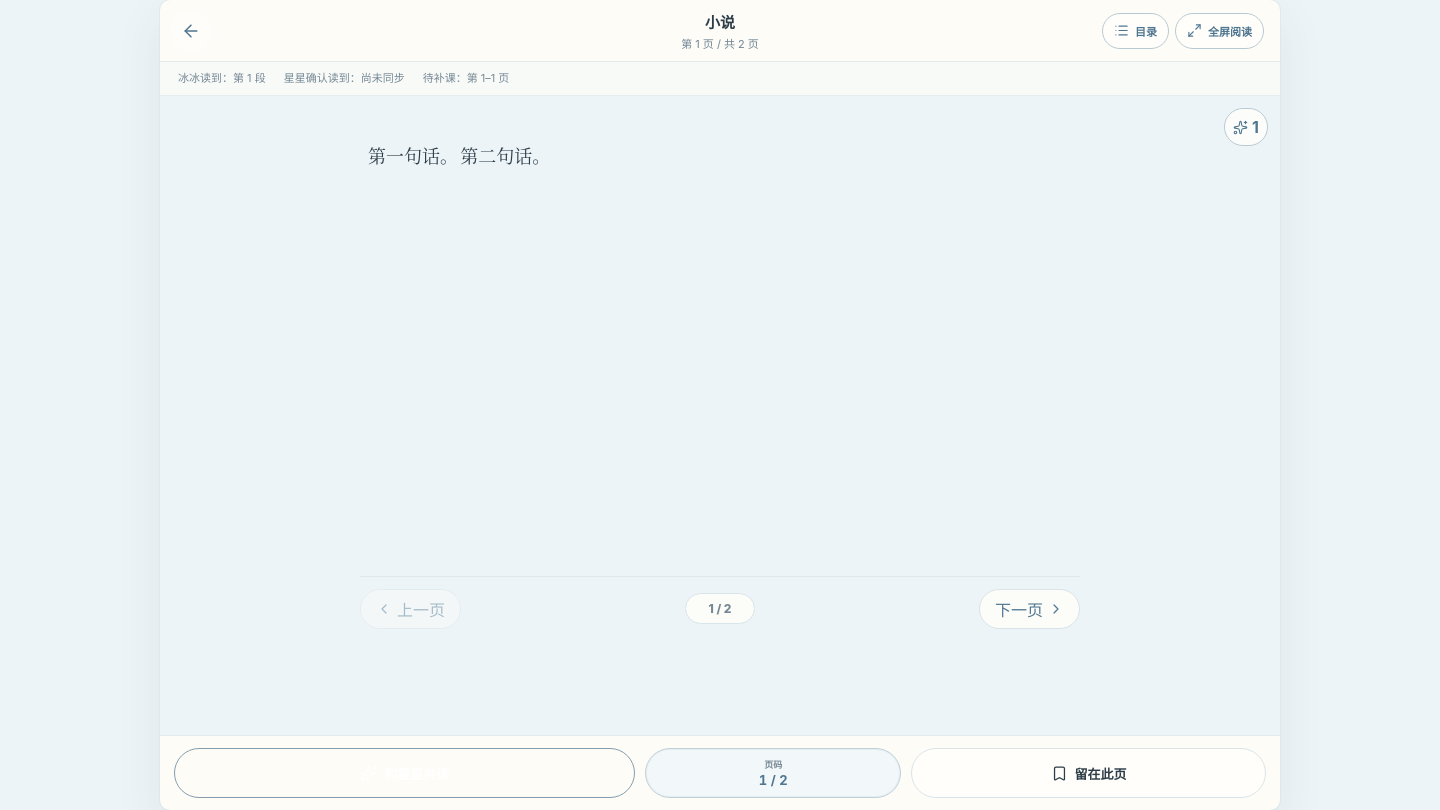
Test: NovelReader › refreshes the current page thought summary after saving clear thinking
Step 1. Click the button "第二句话。" → (505, 155), box [458,142,552,169]
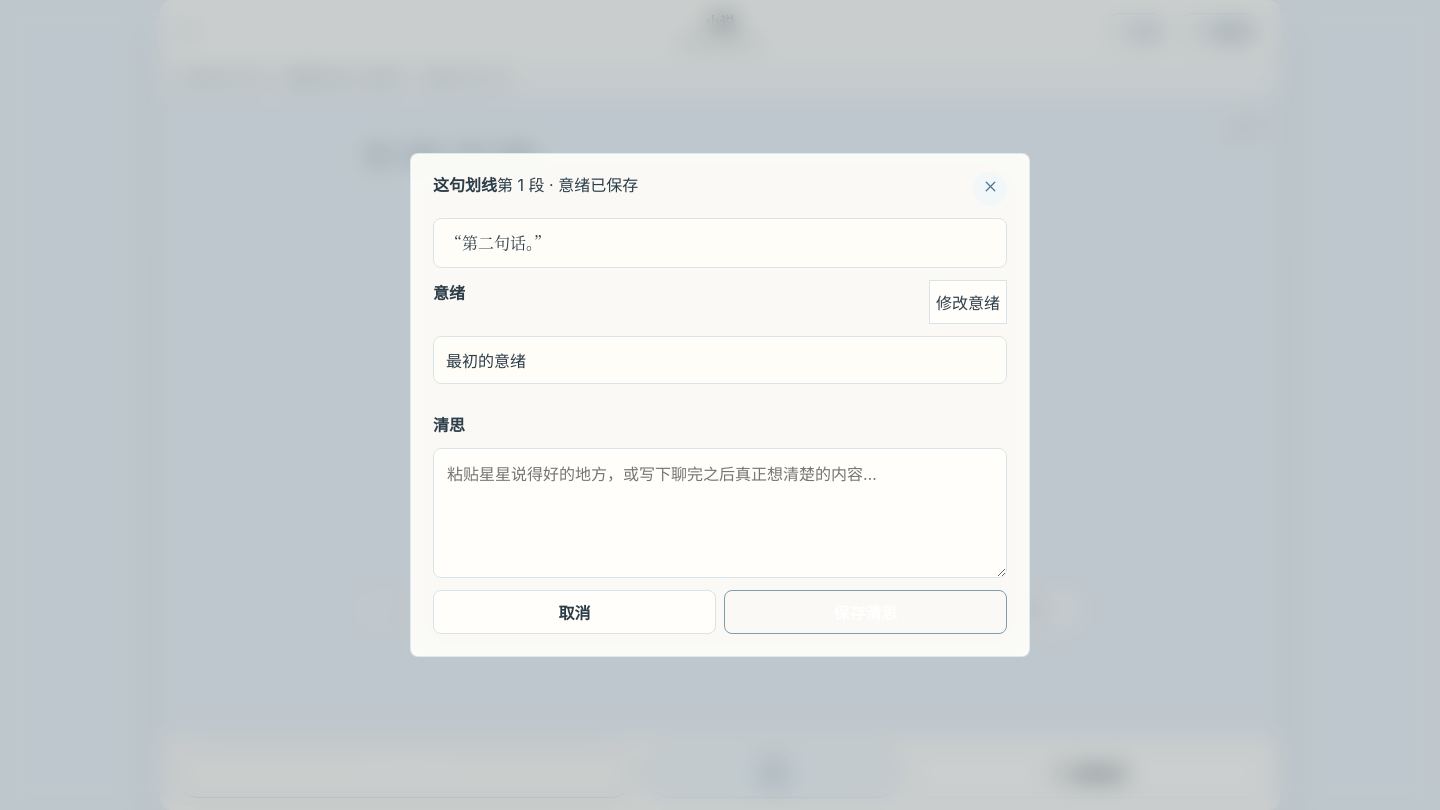
Step 2. Type "聊完之后，我知道这里是在说反馈。" into the text box with placeholder "粘贴星星说得好的地方，或写下聊完之后真正想清楚的内容…" → (720, 513), box [433,448,1007,578]
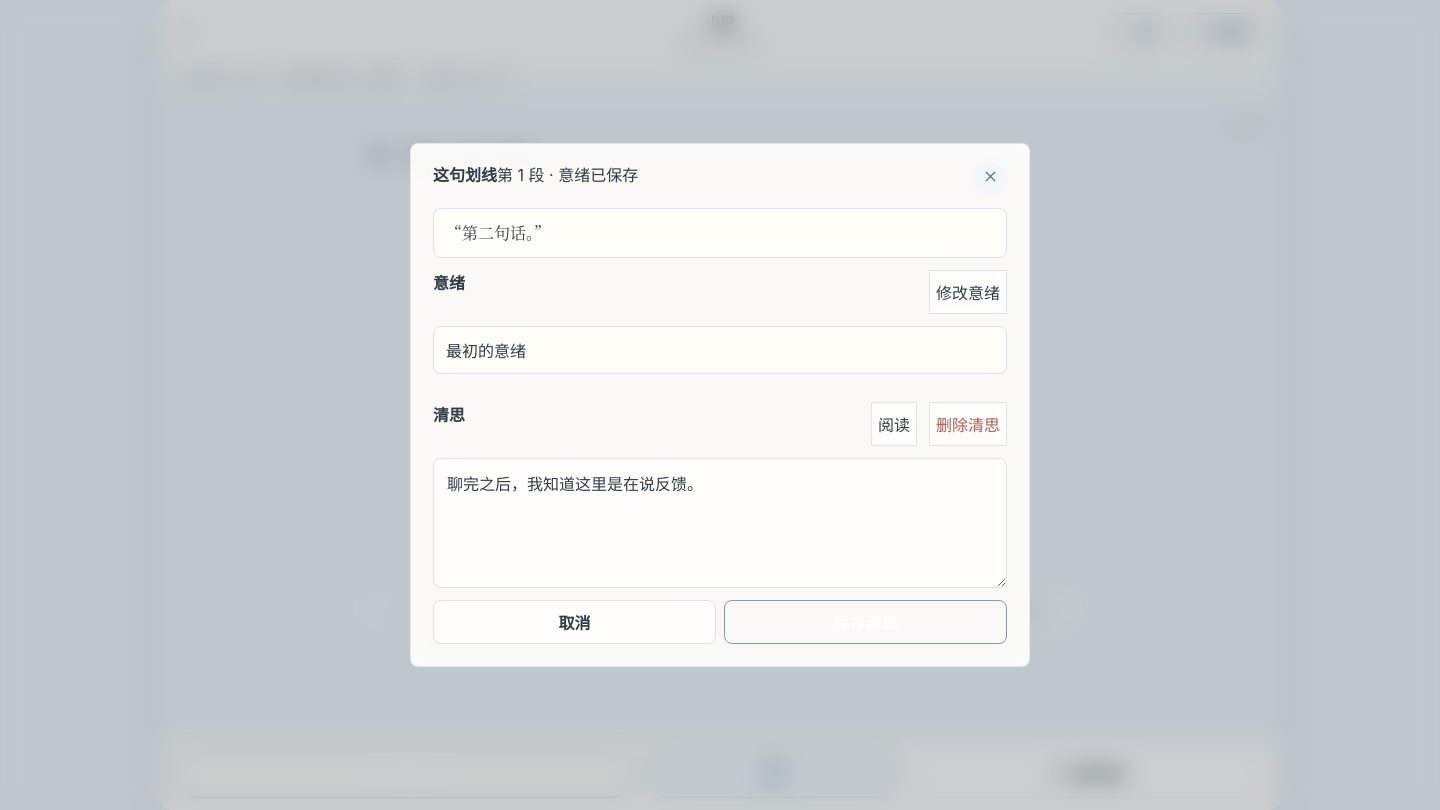
Step 3. Click the button "保存清思" → (866, 622), box [724,600,1007,644]
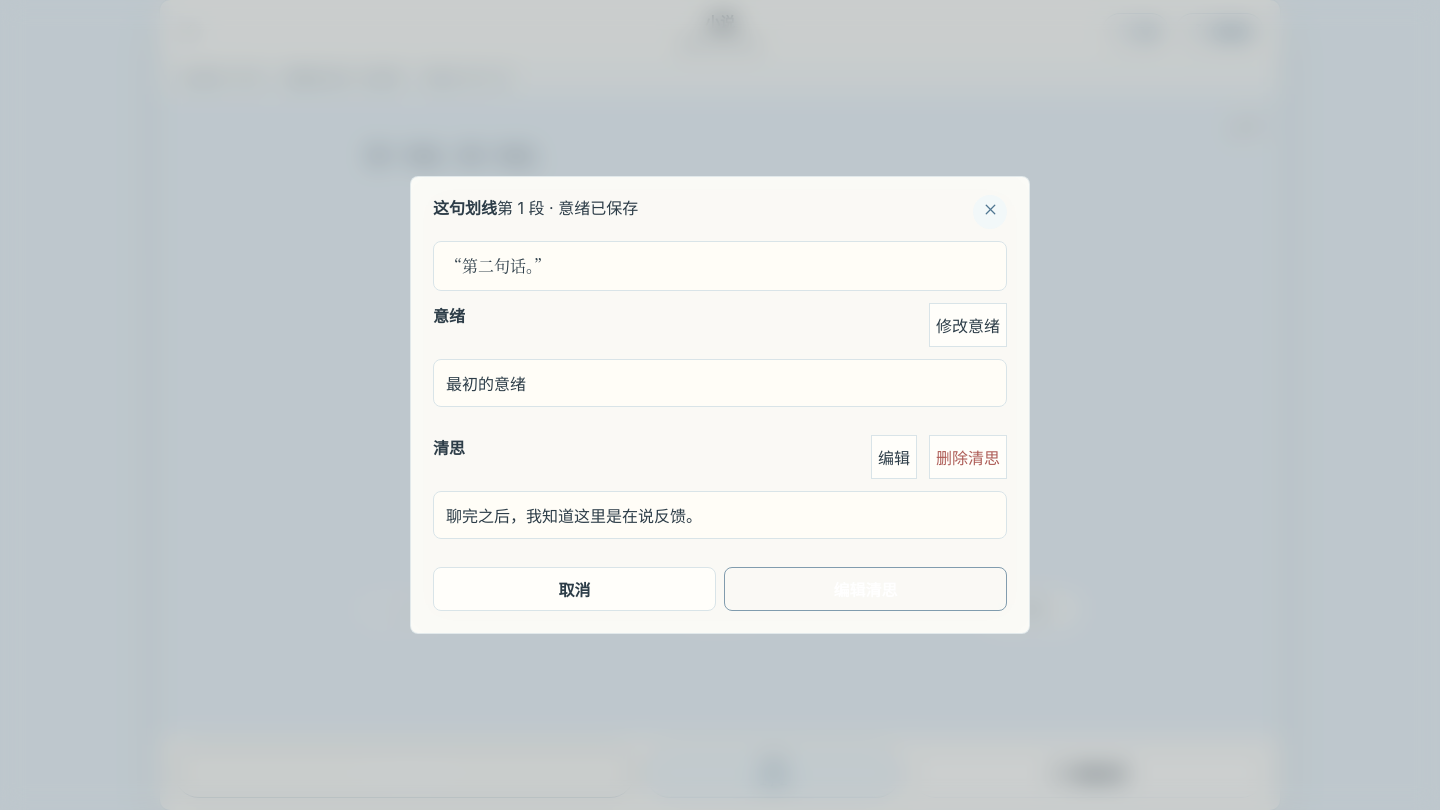
Step 4. Click the button named "关闭划线清思" → (990, 212), box [973,195,1007,229]
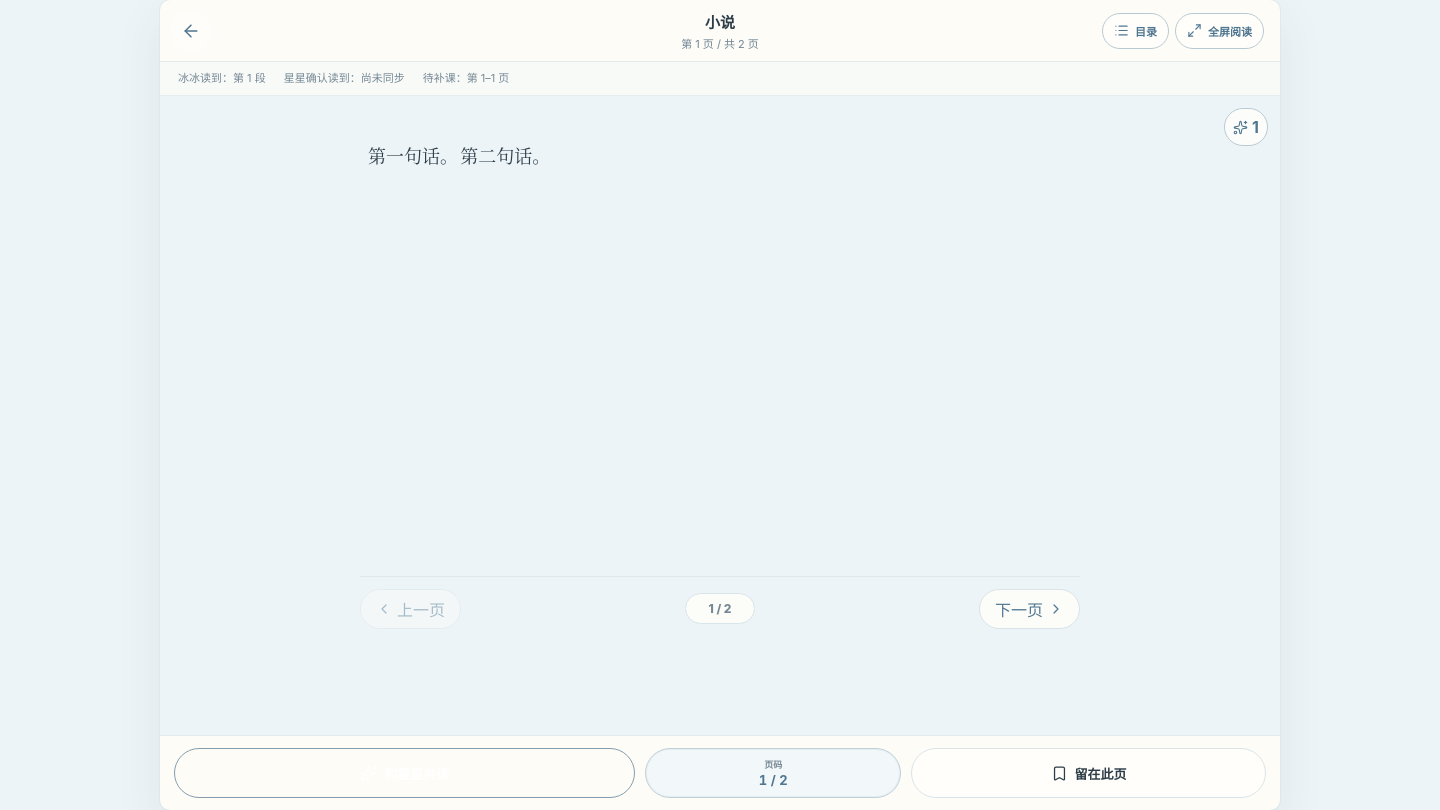
Step 5. Click the button named "本页想法" → (1246, 127), box [1224,108,1268,146]
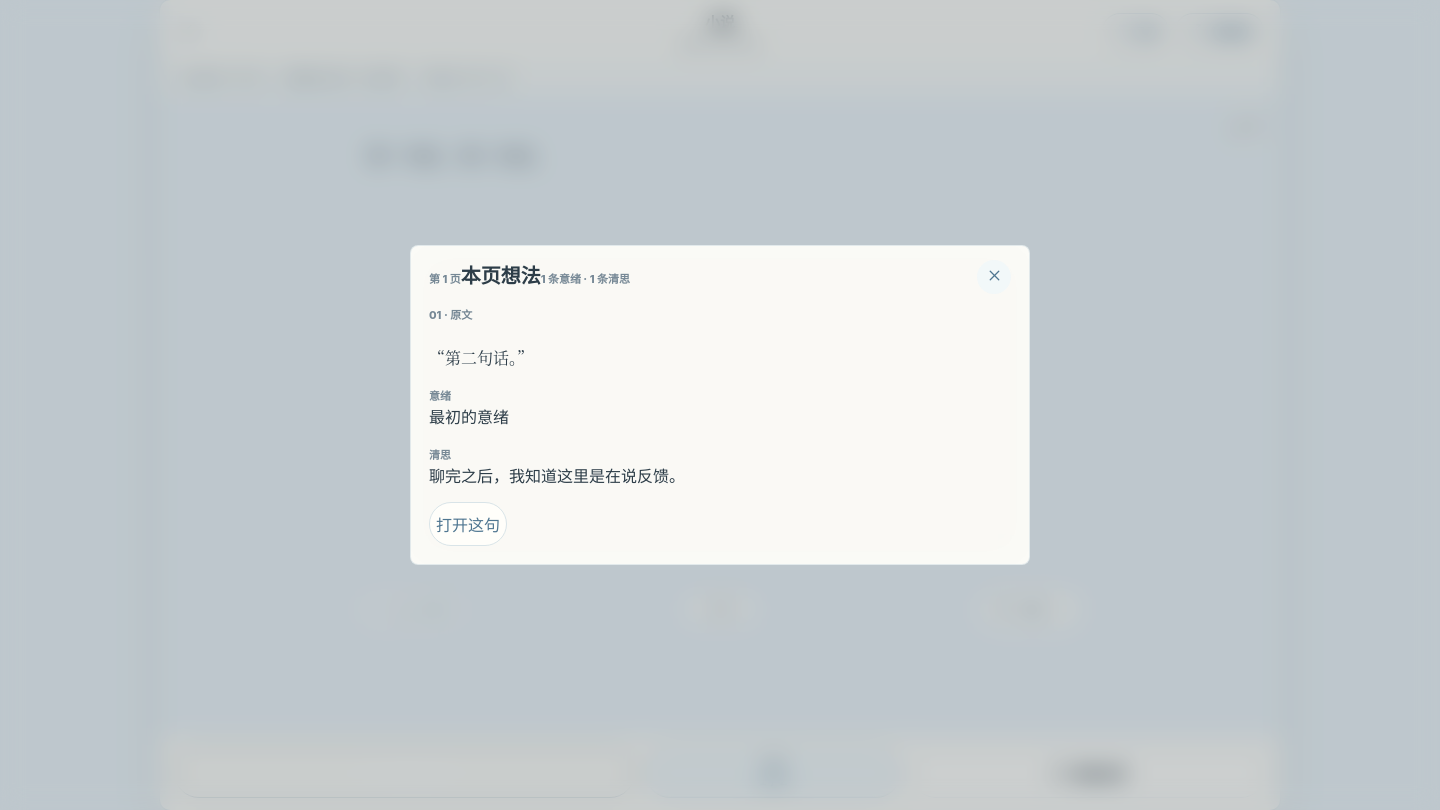
Result: the text "聊完之后，我知道这里是在说反馈。" is shown at [429,466,685,486]
